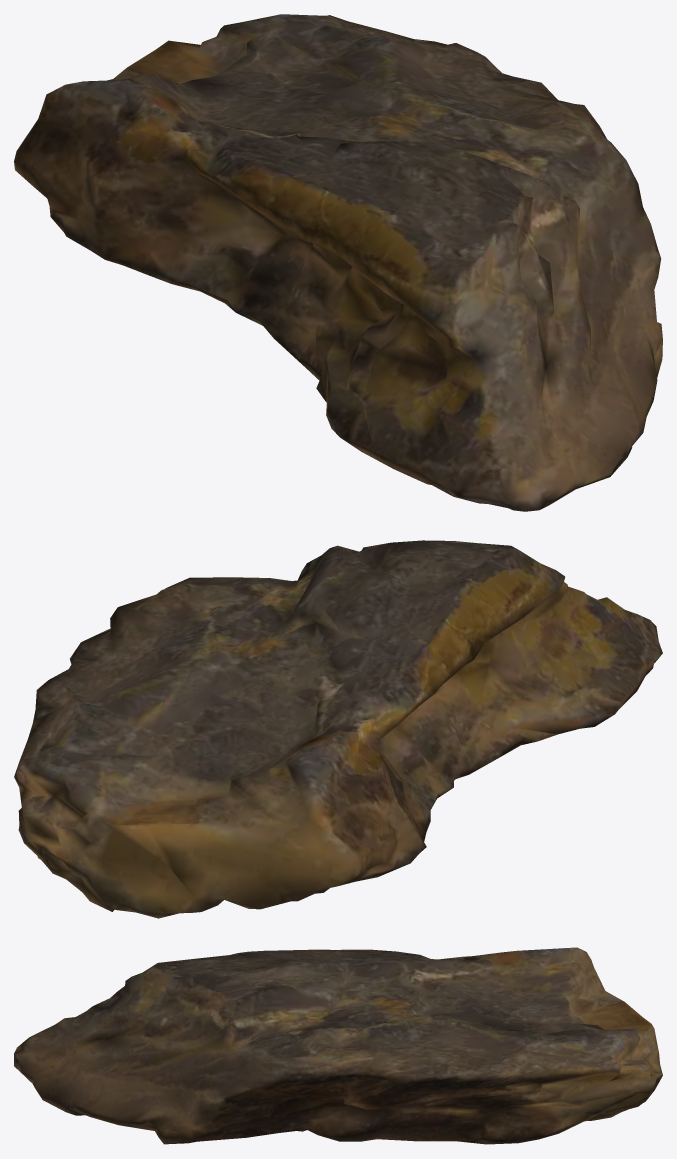
The model's file is shard.glb.
3 views of the same model, one above another, from view 1: azimuth 30°, elevation 25°; view 2: azimuth 150°, elevation 25°; view 3: azimuth 270°, elevation 25° (orthographic). The views are drawn at different scales.
Parts seen in each view (by area): view 1: rock_09_LOD0; view 2: rock_09_LOD0; view 3: rock_09_LOD0.
Boxes of the visible parts, bbox=[...] form: rock_09_LOD0: bbox=[14, 14, 662, 511]; rock_09_LOD0: bbox=[14, 540, 662, 918]; rock_09_LOD0: bbox=[14, 947, 662, 1144].
Bounding box in the file's own units: 0.0739 × 0.0326 × 0.1446.
1 material, 1 textured.
